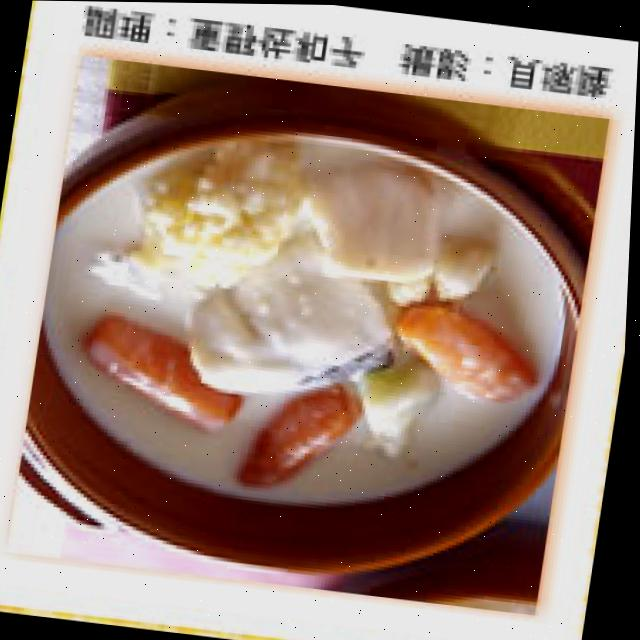汤锅炖物: (11, 83, 597, 606)
